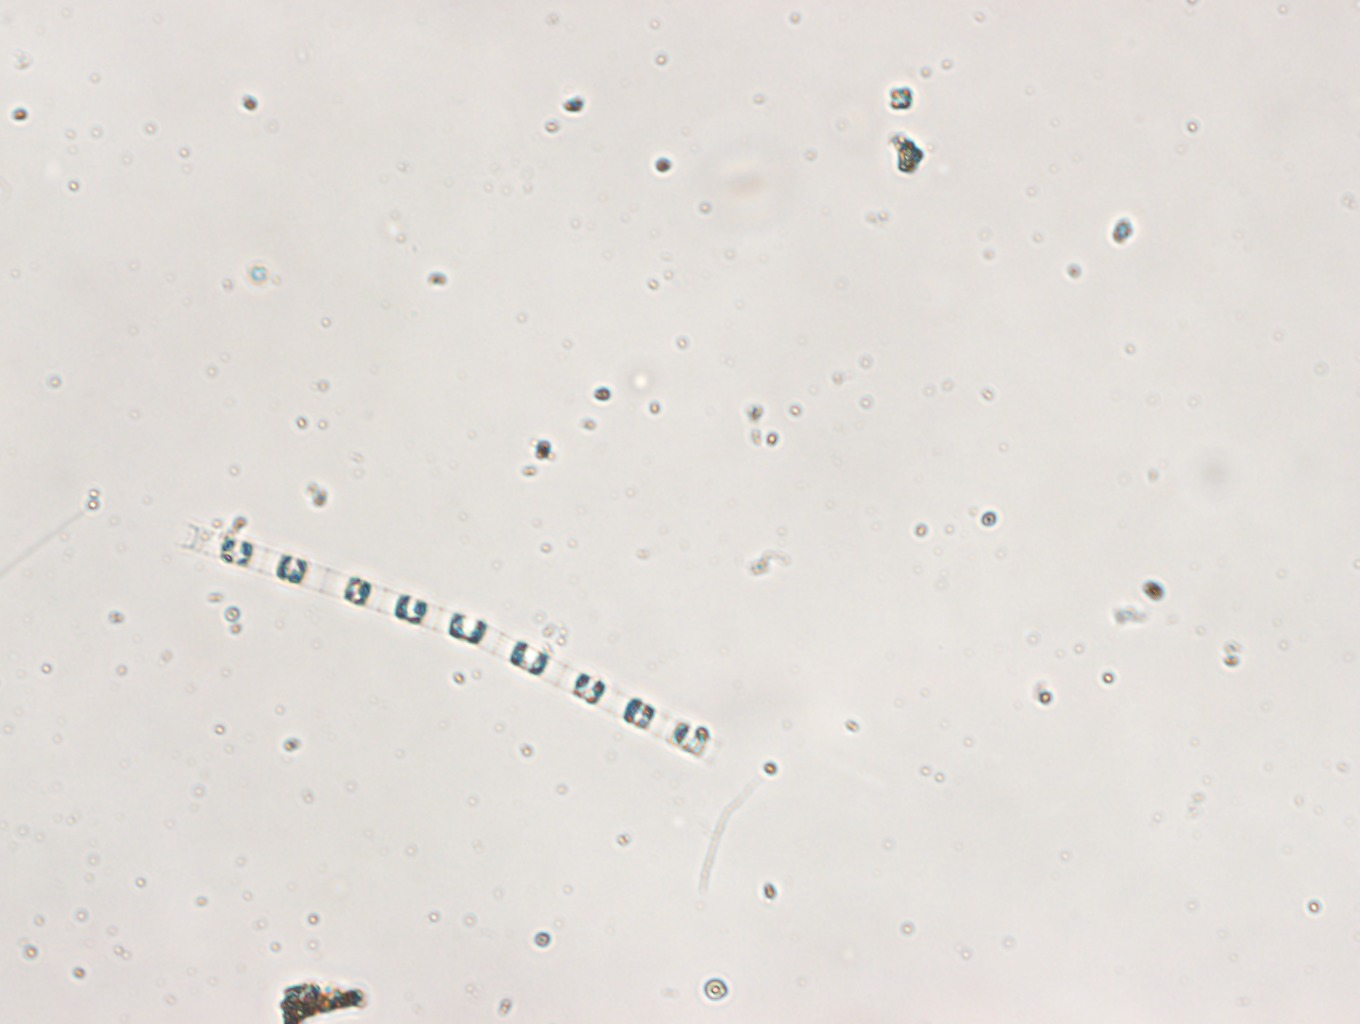skeletonema: (175, 520, 717, 768)
